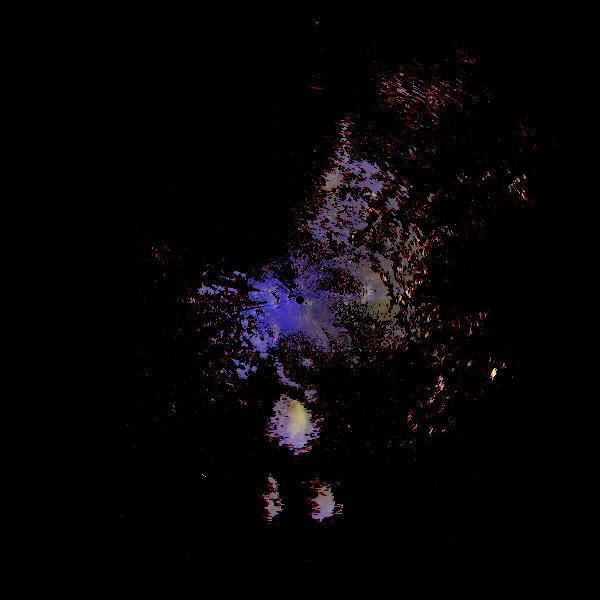roost: (272, 403, 320, 451), (296, 483, 338, 525), (254, 499, 278, 523)
